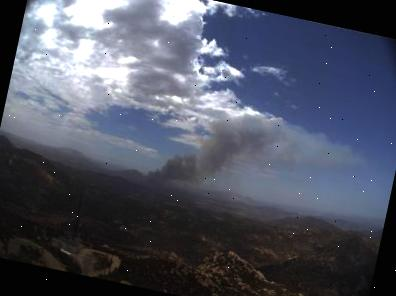smoke: (137, 90, 371, 231)
